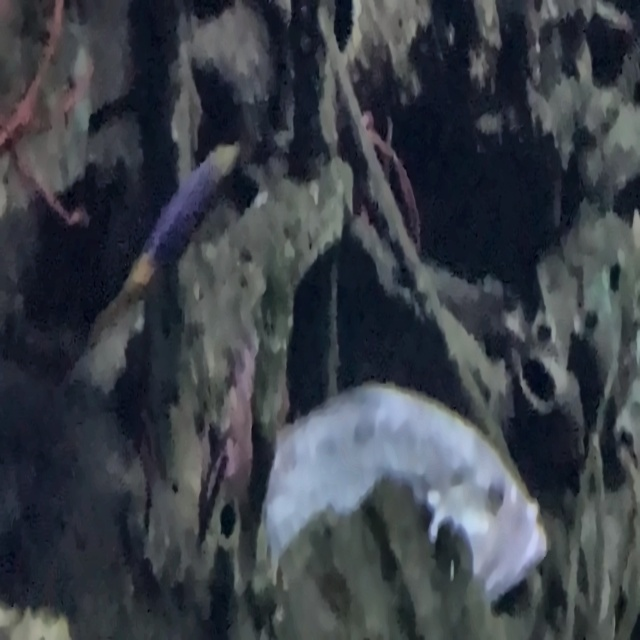fish: (258, 379, 547, 606), (85, 136, 241, 351)
